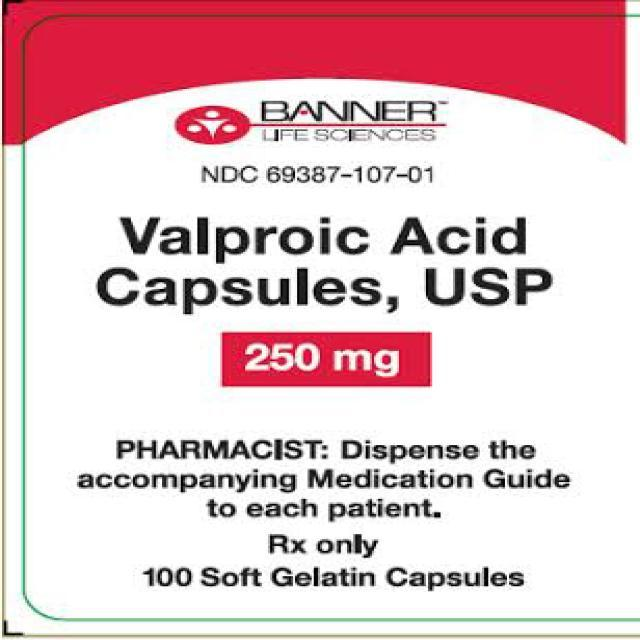drug-name: (108, 208, 547, 267)
